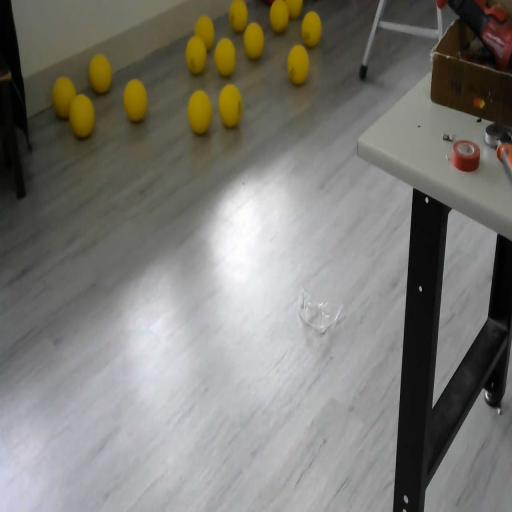FUEL: (68, 92, 96, 138), (187, 88, 214, 134), (218, 82, 243, 128), (122, 78, 148, 122), (88, 52, 112, 94), (286, 44, 310, 86), (184, 35, 208, 75), (214, 36, 236, 77), (243, 21, 265, 60), (301, 10, 322, 48), (228, 0, 248, 33), (269, 0, 289, 33), (285, 0, 303, 18)
